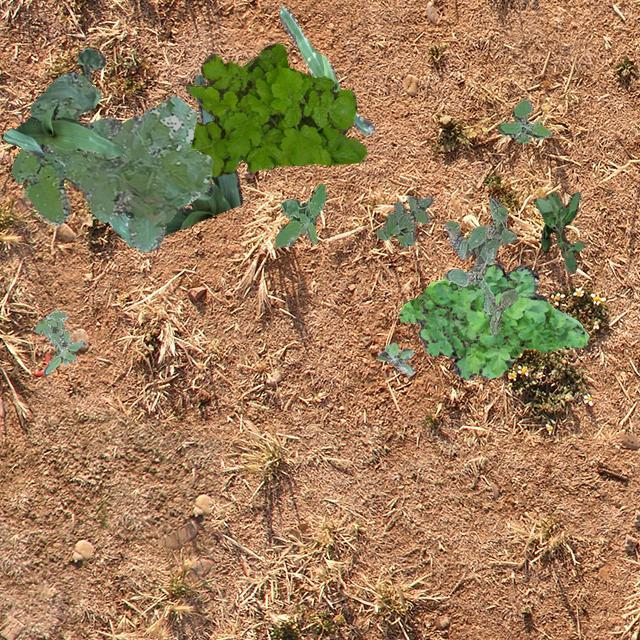crop: (106, 75, 242, 246), (278, 5, 374, 134), (0, 100, 124, 166), (76, 48, 105, 110)
weed: (11, 70, 212, 252), (184, 42, 366, 176), (398, 262, 588, 379), (442, 196, 516, 338), (534, 190, 584, 272), (32, 310, 84, 374), (274, 182, 326, 246), (374, 194, 432, 247), (496, 98, 550, 142), (374, 342, 414, 374)
